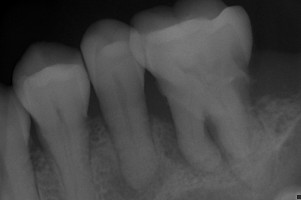Dental Caries: (151, 114, 232, 178)
Furcation Involvement: (109, 160, 168, 200)
